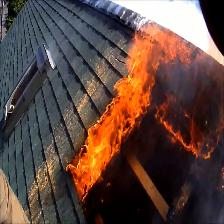fire: (59, 29, 212, 191)
